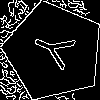Y: (28, 26, 85, 75)
